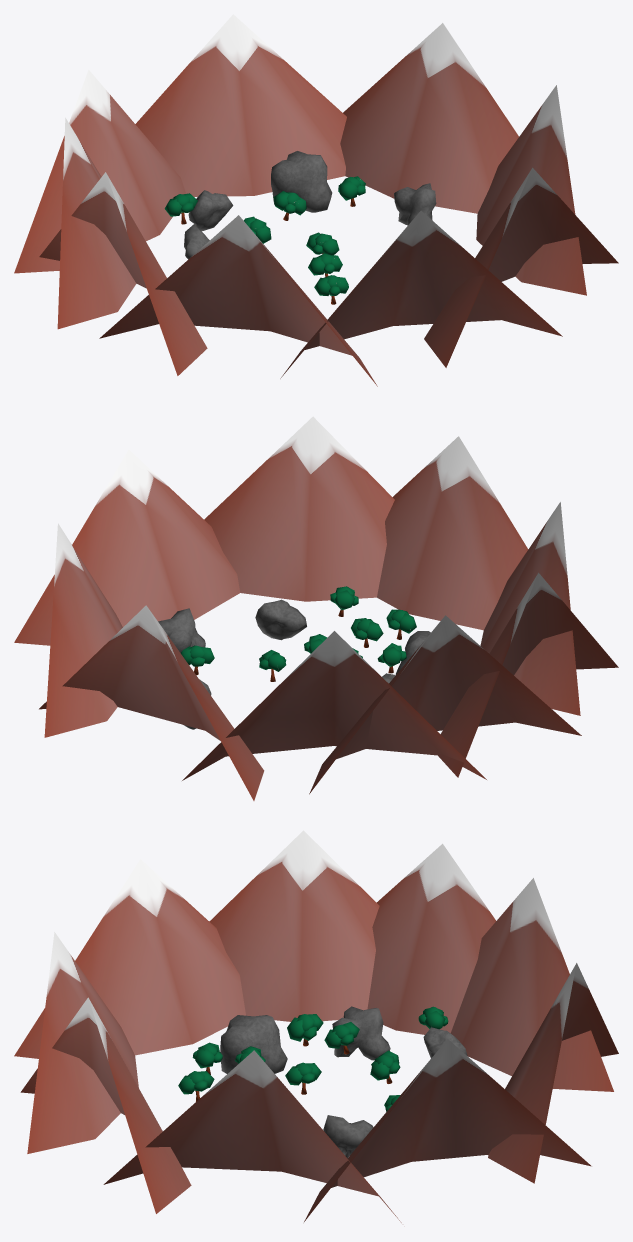
Rendered from World.obj.
3 views of the same model, one above another, from view 1: azimuth 30°, elevation 25°; view 2: azimuth 150°, elevation 25°; view 3: azimuth 270°, elevation 25° (orthographic). The views are drawn at different scales.
Visible parts, largest first — view 1: Cone.015; view 2: Cone.015; view 3: Cone.015.
Part boxes in pixels (<box>): Cone.015: <box>14,14,618,386</box>; Cone.015: <box>14,416,618,800</box>; Cone.015: <box>14,830,618,1222</box>.
Size of the model in its own units: 219 by 66.6 by 212.
Materials: 1 (1 with a texture image).
